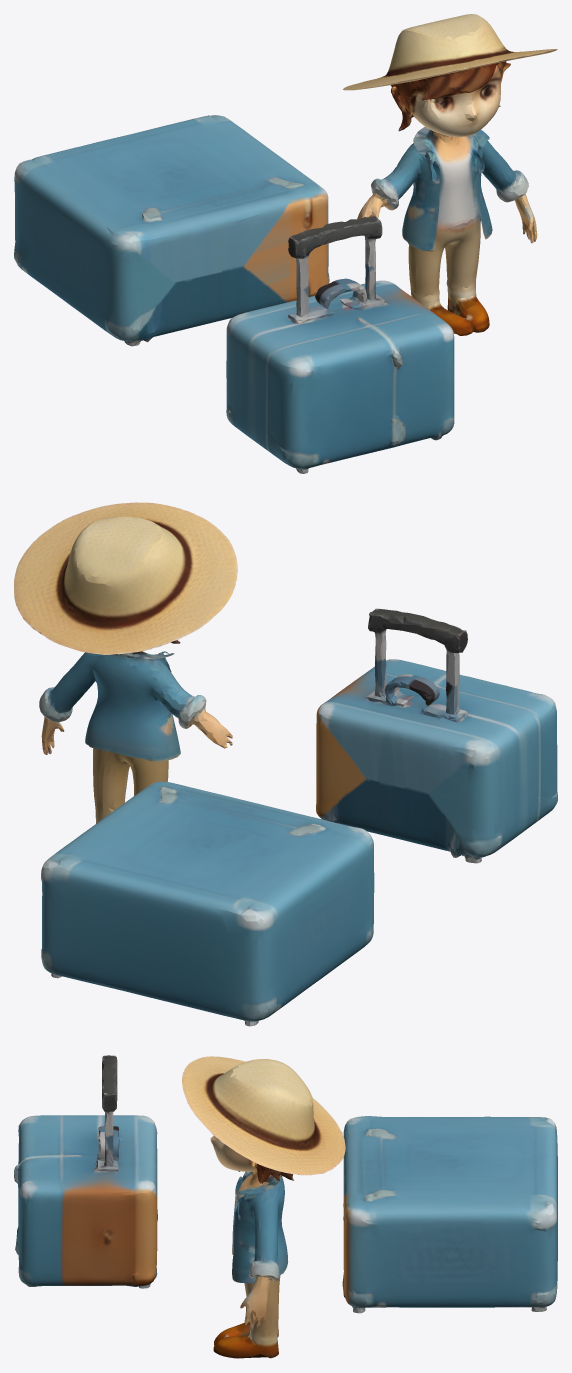
File: enemy-traveler.glb
3 renders of one model, top to bottom at view 1: azimuth 30°, elevation 25°; view 2: azimuth 150°, elevation 25°; view 3: azimuth 270°, elevation 25°, orthographic. The views are drawn at different scales.
Parts seen in each view (by area): view 1: ChibiTraveler; view 2: ChibiTraveler; view 3: ChibiTraveler.
Boxes of the visible parts, box(x1,y1,x2,y2) form: ChibiTraveler: box(14, 14, 557, 473); ChibiTraveler: box(14, 502, 557, 1026); ChibiTraveler: box(14, 1055, 557, 1358).
Bounding box in the file's own units: 1.96 × 1.42 × 2.54.
1 material, 1 textured.
